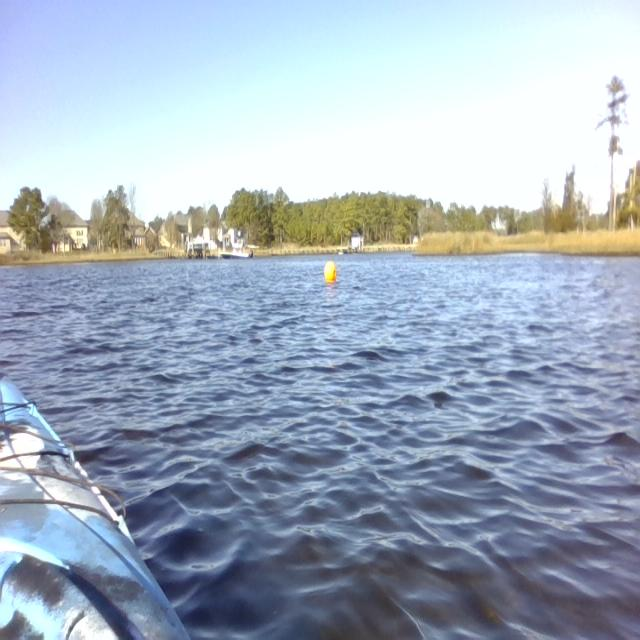Buoy: (323, 259, 338, 286)
